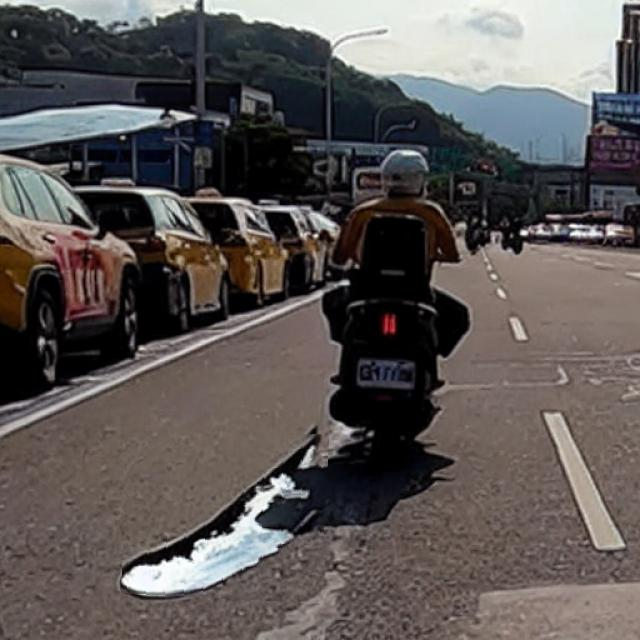puddle: (124, 427, 328, 602)
